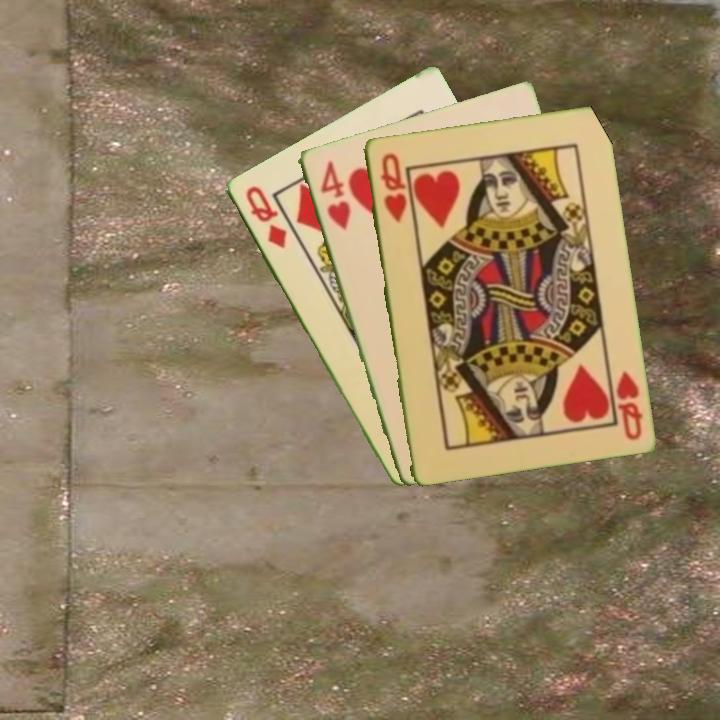4h: (316, 157, 353, 233)
Qd: (241, 182, 290, 252)
Qh: (611, 367, 645, 443), (376, 149, 409, 225)
